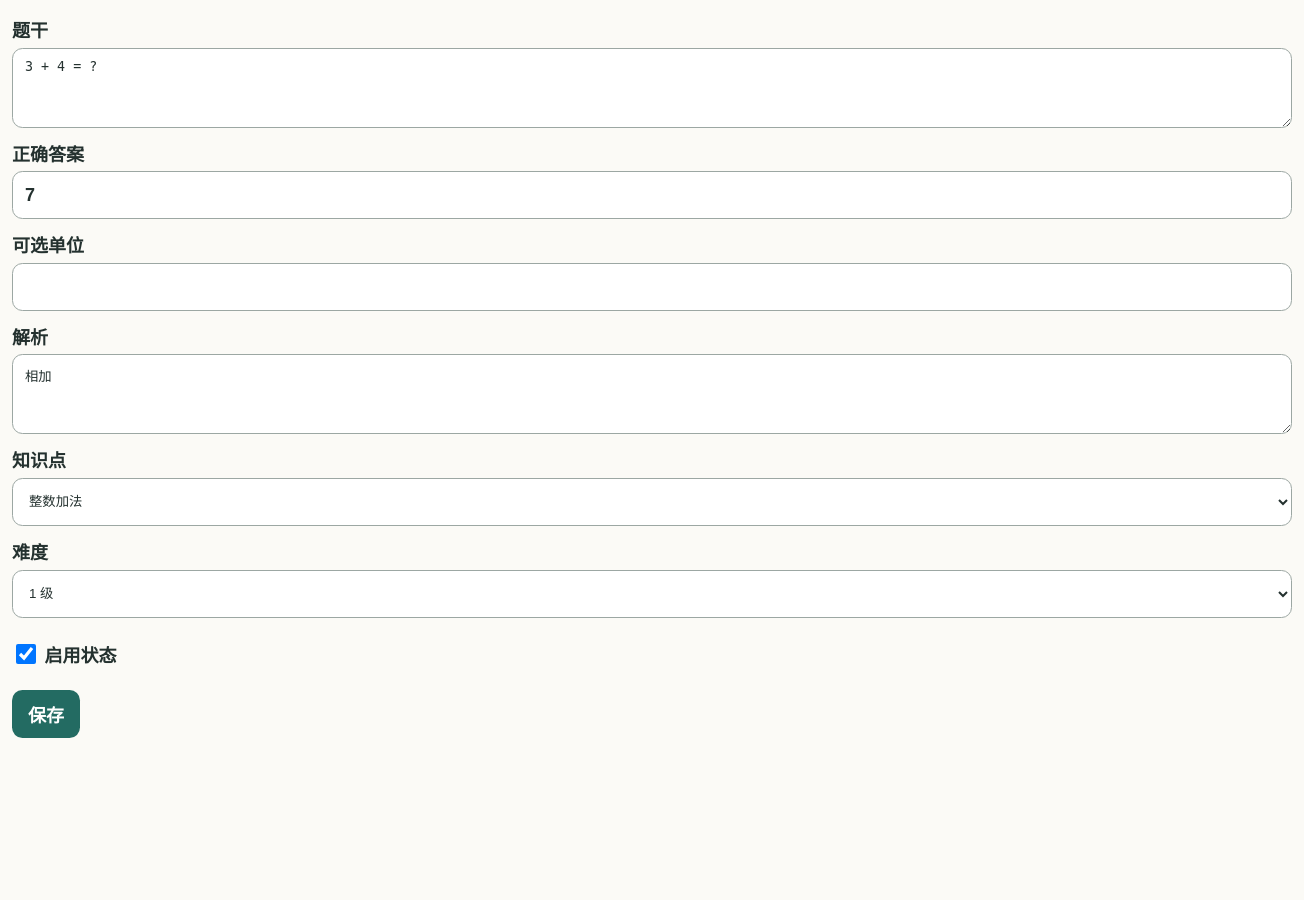
clears the field error when a non-answer field is edited
Click the button "保存" at coordinates (46, 714), box [12, 690, 80, 738]
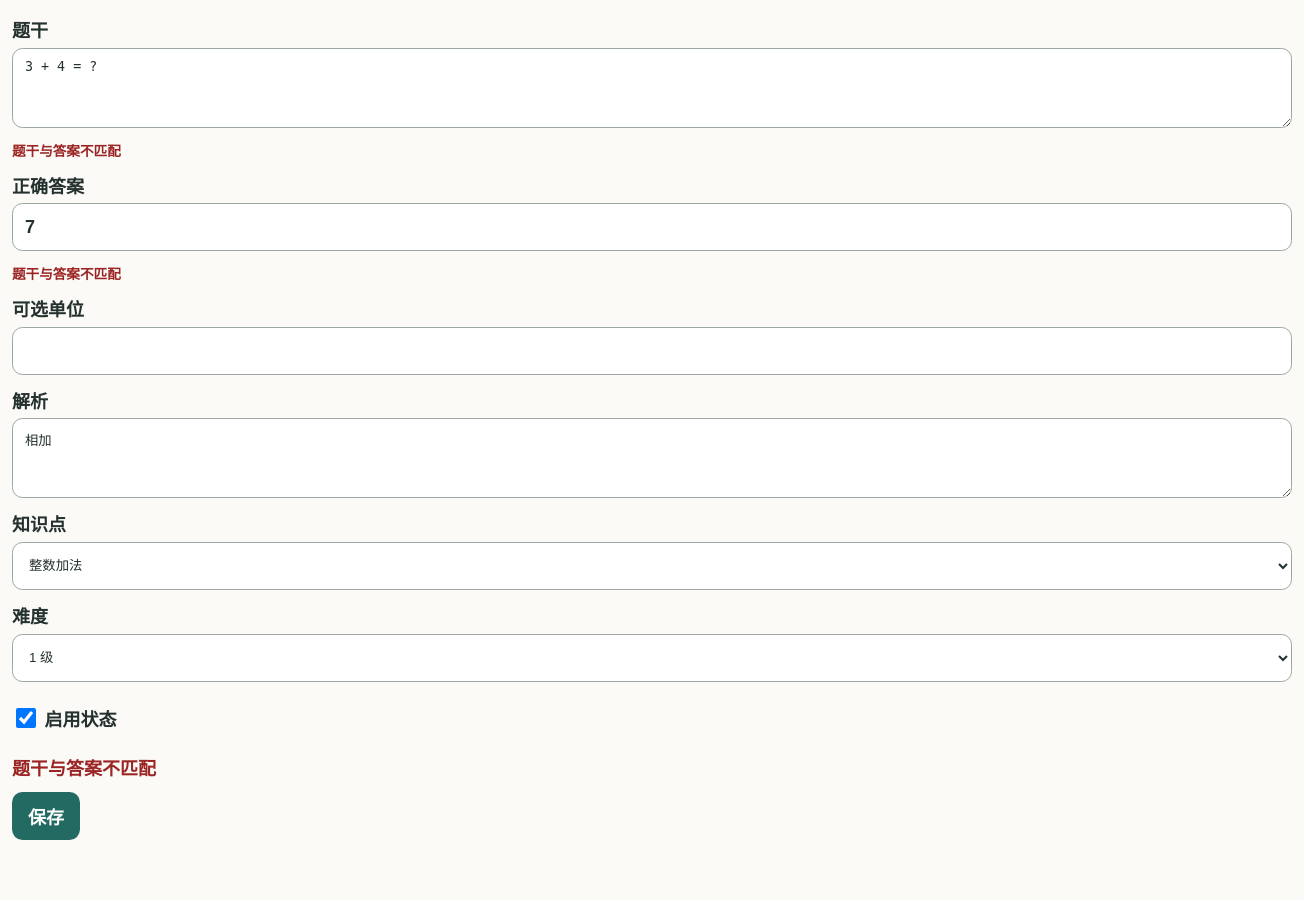
Check: the message "题干与答案不匹配" is shown, box [12, 759, 156, 779]
Select "2 级" in the dropdown labelled "难度" at coordinates (652, 658), box [12, 634, 1292, 682]
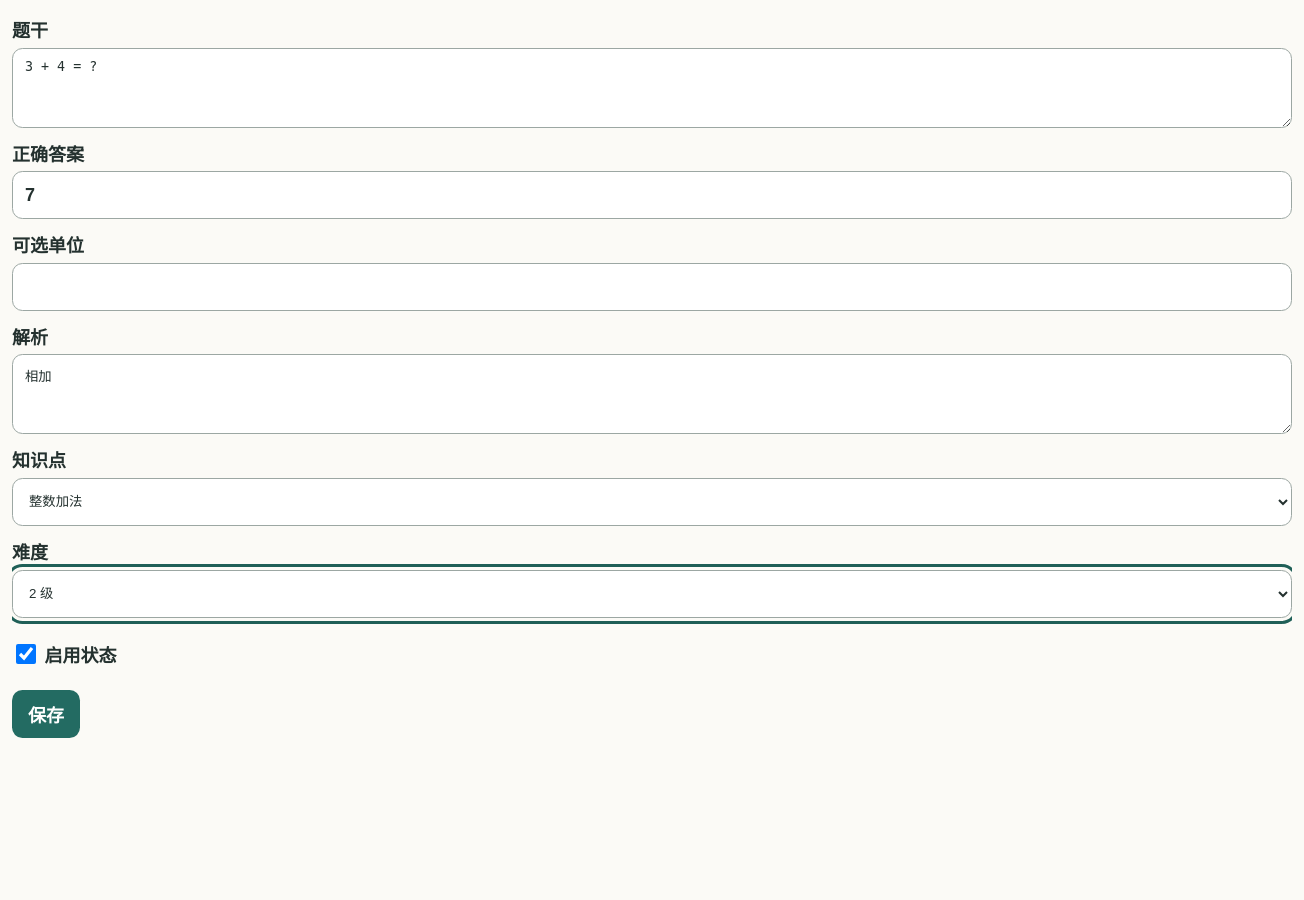
Check: the message "题干与答案不匹配" is gone
